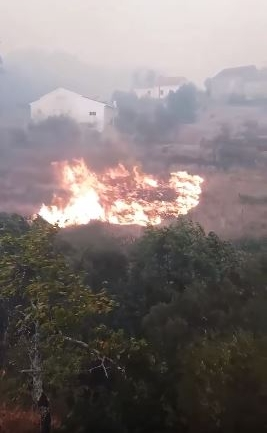山火: (25, 156, 205, 229)
烟雾: (0, 0, 267, 240)
